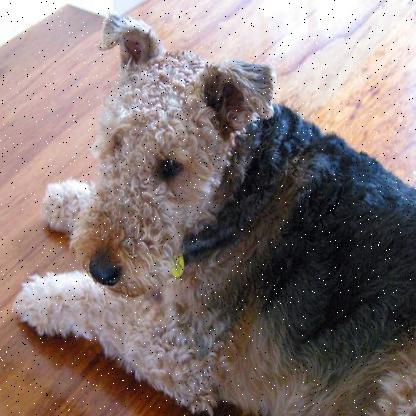dog: (39, 12, 402, 409)
